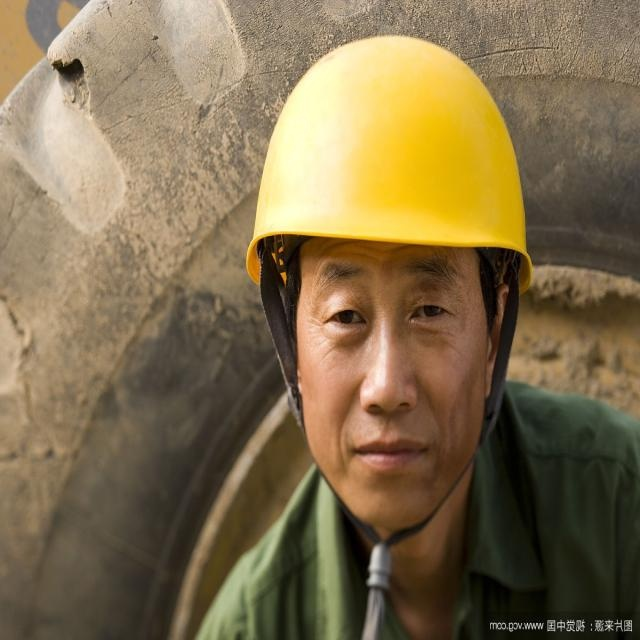Con_Casco: (243, 35, 532, 518)
